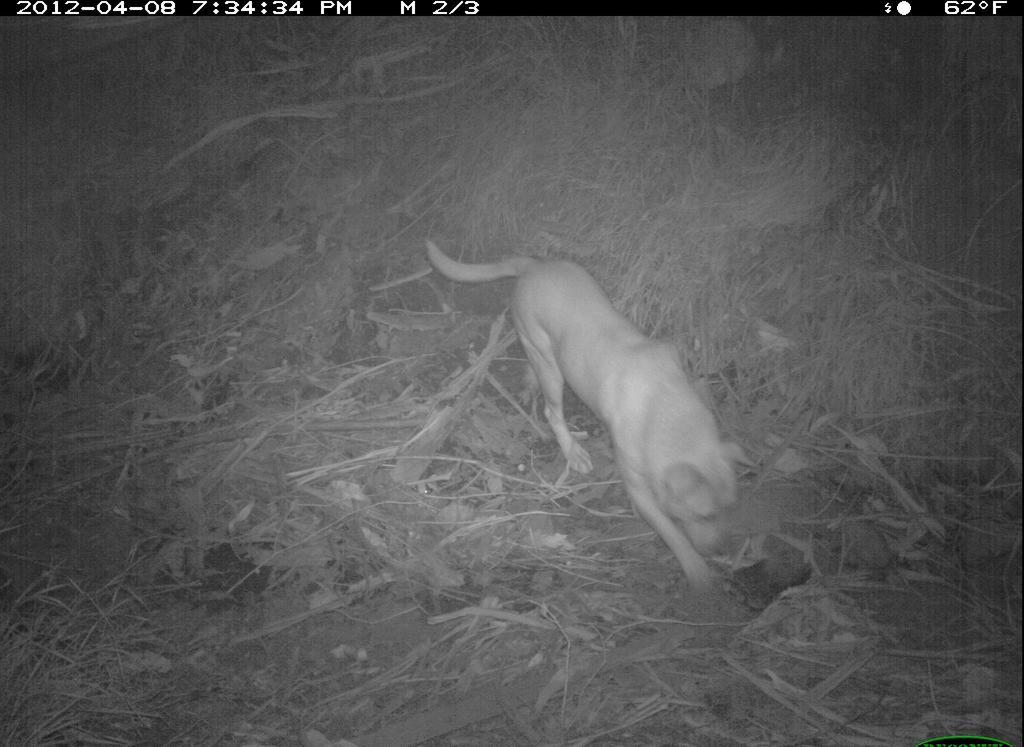dog: (415, 232, 777, 594)
